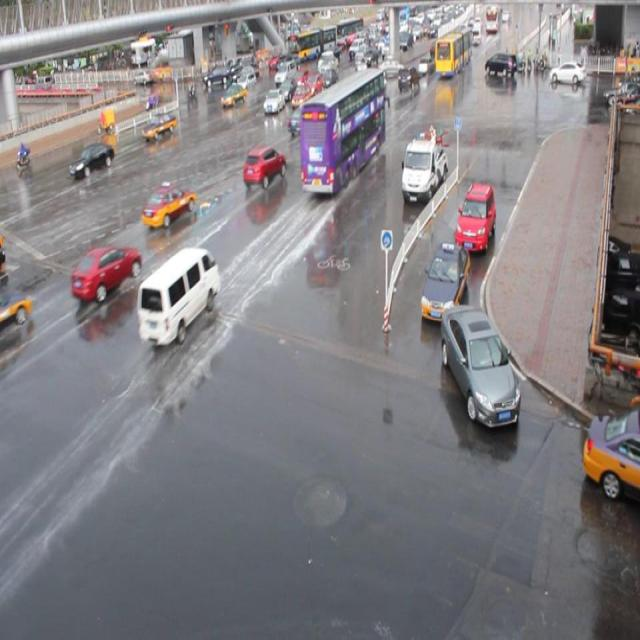bus: (401, 132, 447, 202)
car: (440, 306, 521, 428), (582, 411, 640, 504), (69, 243, 141, 303), (419, 240, 470, 322), (454, 181, 494, 253), (141, 182, 197, 229), (243, 146, 285, 189), (69, 142, 114, 179), (142, 113, 177, 141), (286, 105, 312, 134), (220, 84, 247, 108), (391, 68, 415, 94), (291, 82, 311, 109), (263, 89, 284, 112), (278, 77, 297, 101), (306, 73, 323, 96), (363, 76, 381, 96), (293, 68, 310, 88)
truck: (137, 246, 220, 347)
van: (298, 68, 385, 196)
